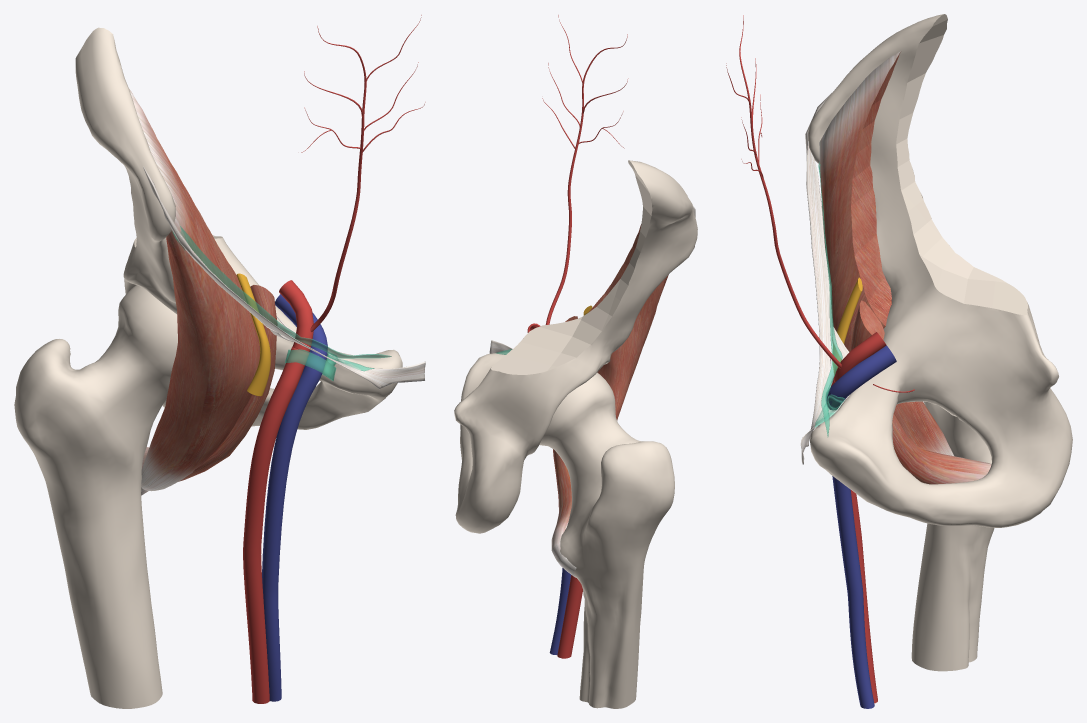
File: femoral-canal.glb
3 views of the same model, side by side, from view 1: azimuth 30°, elevation 25°; view 2: azimuth 150°, elevation 25°; view 3: azimuth 270°, elevation 25° (orthographic). The views are drawn at different scales.
Parts seen in each view (by area): view 1: Femur.r, Iliacus muscle.r, Hip bone.r, Femoral artery.r, Femoral vein.r, Psoas major muscle.r, Inguinal ligament.r, Inferior epigastric artery.r, Iliopubic tract overlay.r, Femoral nerve.r, External iliac artery.r, Femoral sheath overlay.r (+1 smaller); view 2: Hip bone.r, Femur.r, Iliacus muscle.r, Psoas major muscle.r, Inferior epigastric artery.r, Femoral artery.r, Femoral vein.r; view 3: Hip bone.r, Iliacus muscle.r, Femur.r, Inguinal ligament.r, Femoral vein.r, Psoas major muscle.r, Inferior epigastric artery.r, External iliac vein.r, Femoral artery.r, Iliopubic tract overlay.r, External iliac artery.r, Femoral nerve.r.
Boxes of the visible parts, x1=… form: Femur.r: x1=14, y1=285, x2=177, y2=708; Iliacus muscle.r: x1=129, y1=88, x2=260, y2=491; Hip bone.r: x1=75, y1=27, x2=402, y2=429; Femoral artery.r: x1=243, y1=347, x2=308, y2=703; Femoral vein.r: x1=262, y1=351, x2=326, y2=701; Psoas major muscle.r: x1=141, y1=285, x2=277, y2=495; Inguinal ligament.r: x1=143, y1=166, x2=425, y2=389; Inferior epigastric artery.r: x1=301, y1=15, x2=425, y2=331; Iliopubic tract overlay.r: x1=172, y1=226, x2=391, y2=358; Femoral nerve.r: x1=236, y1=273, x2=270, y2=396; External iliac artery.r: x1=279, y1=280, x2=313, y2=352; Femoral sheath overlay.r: x1=285, y1=349, x2=336, y2=380; Hip bone.r: x1=454, y1=160, x2=697, y2=533; Femur.r: x1=539, y1=372, x2=674, y2=708; Iliacus muscle.r: x1=589, y1=224, x2=668, y2=420; Psoas major muscle.r: x1=551, y1=316, x2=577, y2=577; Inferior epigastric artery.r: x1=542, y1=15, x2=628, y2=324; Femoral artery.r: x1=557, y1=575, x2=582, y2=658; Femoral vein.r: x1=549, y1=568, x2=571, y2=654; Hip bone.r: x1=808, y1=14, x2=1072, y2=527; Iliacus muscle.r: x1=819, y1=51, x2=953, y2=455; Femur.r: x1=911, y1=402, x2=994, y2=671; Inguinal ligament.r: x1=800, y1=92, x2=836, y2=464; Femoral vein.r: x1=826, y1=388, x2=874, y2=708; Psoas major muscle.r: x1=850, y1=300, x2=991, y2=484; Inferior epigastric artery.r: x1=726, y1=15, x2=841, y2=368; External iliac vein.r: x1=830, y1=345, x2=896, y2=400; Femoral artery.r: x1=831, y1=377, x2=877, y2=703; Iliopubic tract overlay.r: x1=818, y1=162, x2=842, y2=436; External iliac artery.r: x1=834, y1=332, x2=886, y2=381; Femoral nerve.r: x1=832, y1=277, x2=862, y2=374.
Bounding box in the file's own units: 0.147 × 0.3232 × 0.1493.
Materials: 8 (2 with a texture image).
